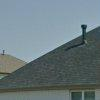Chimney: (78, 20, 90, 47)
